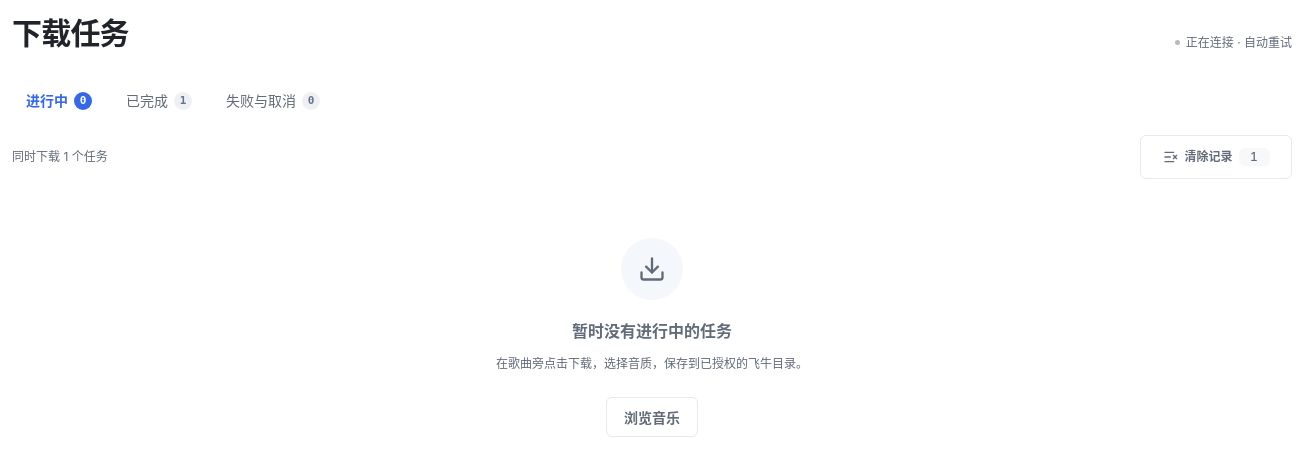
it: 下载页请求音质与文件格式 › 历史 FLAC 文件仅展示格式，不给文件加无损/位深承诺
The image size is (1304, 454).
Click the tab "已完成 1" at [159, 100], box left=112, top=82, right=206, bottom=118
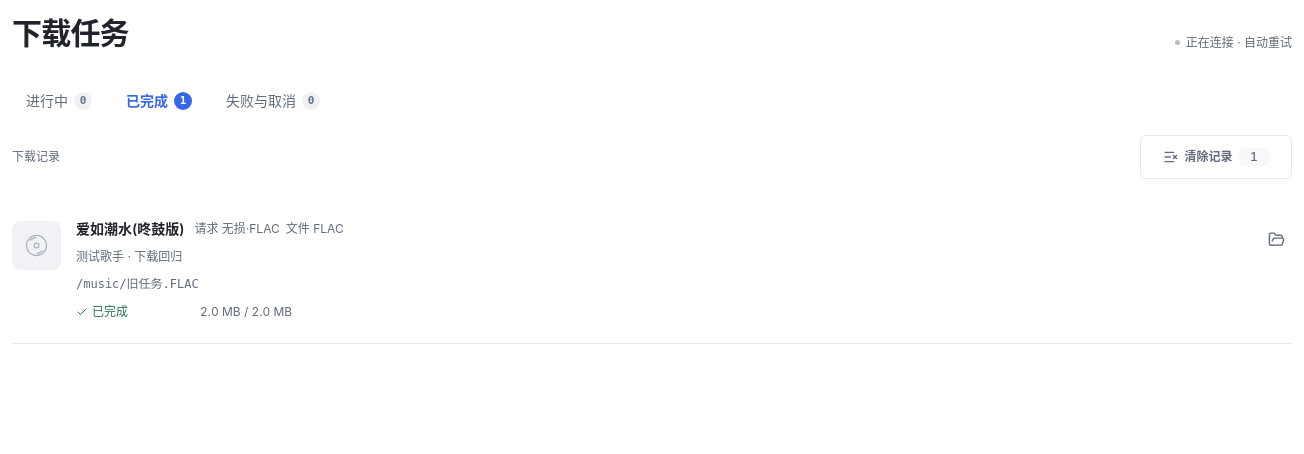
Now the text "文件 FLAC" is shown, box left=286, top=219, right=352, bottom=237
